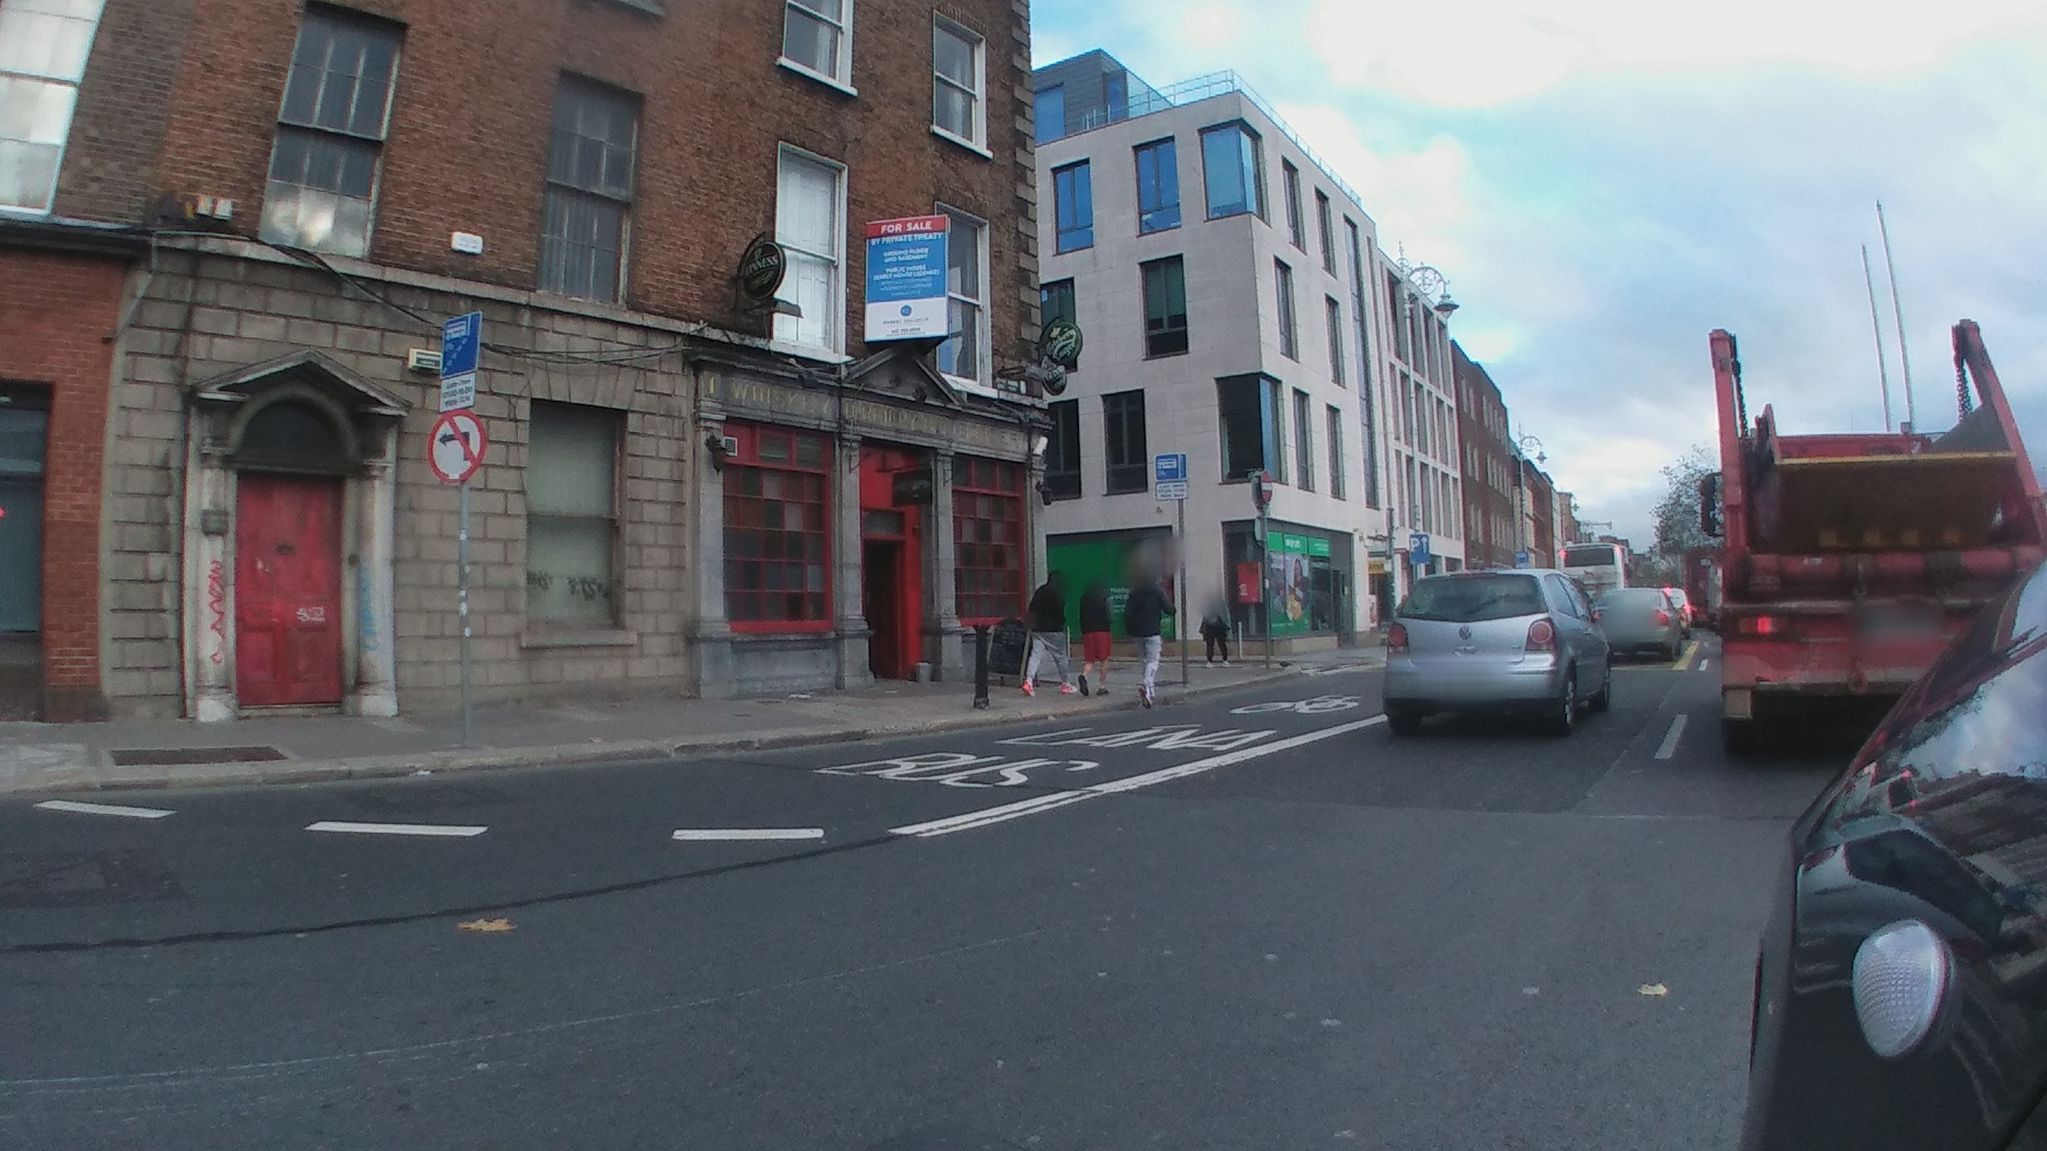property sign: (855, 204, 971, 364)
